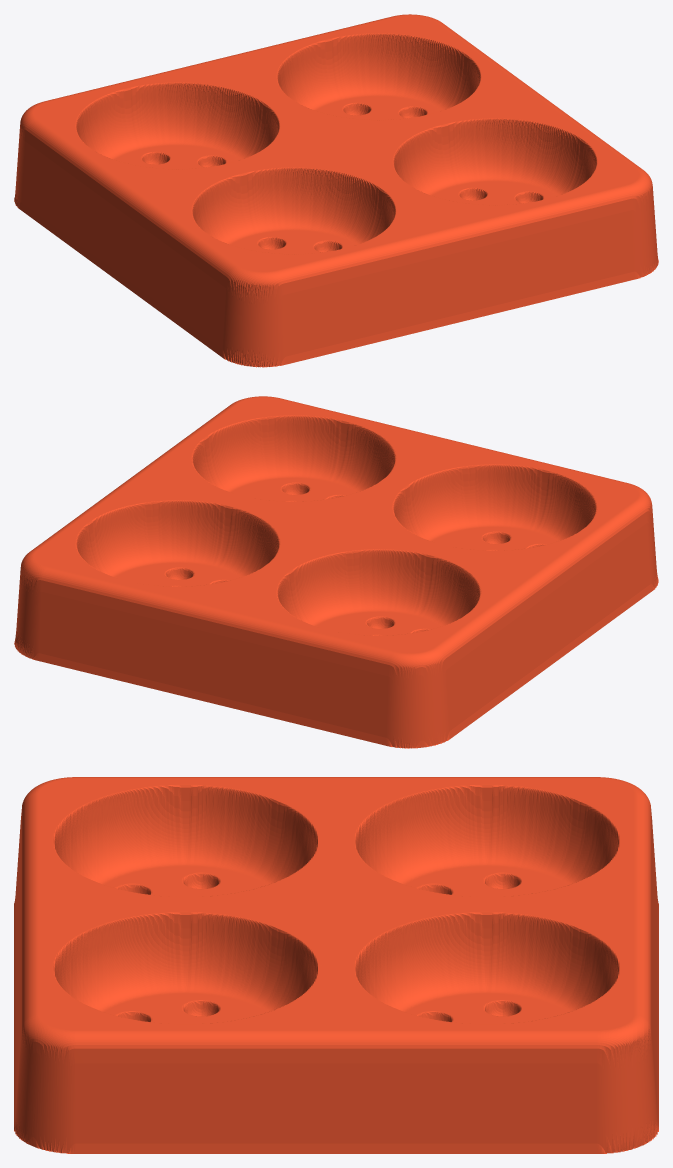
Rendered from mold.glb.
3 views of the same model, one above another, from view 1: azimuth 30°, elevation 25°; view 2: azimuth 150°, elevation 25°; view 3: azimuth 270°, elevation 25° (orthographic). The views are drawn at different scales.
Parts seen in each view (by area): view 1: geometry_0; view 2: geometry_0; view 3: geometry_0.
Boxes of the visible parts, box(x1,y1,x2,y2) form: geometry_0: box(14, 14, 658, 367); geometry_0: box(14, 396, 658, 748); geometry_0: box(14, 777, 658, 1153).
Size of the model in its own units: 0.0942 by 0.0182 by 0.0942.
